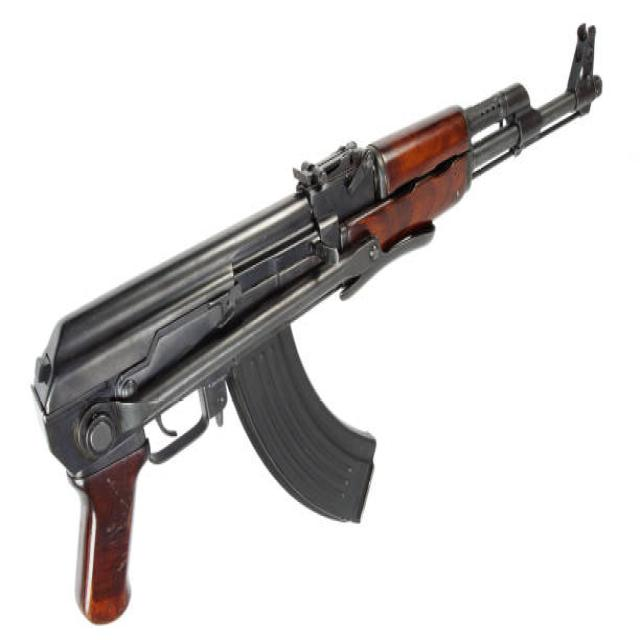rifle: (30, 17, 612, 625)
